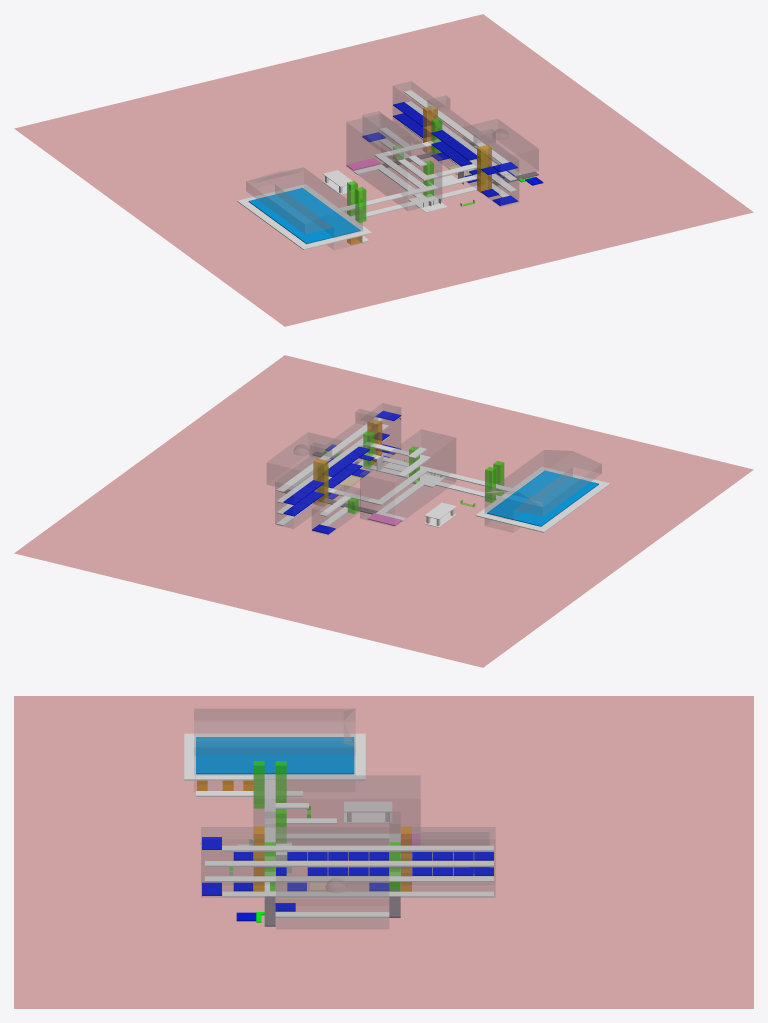
Rendered from schoolmap.glb.
The picture shows the model from 3 angles, top to bottom: view 1: azimuth 30°, elevation 25°; view 2: azimuth 150°, elevation 25°; view 3: azimuth 270°, elevation 25°; orthographic projection. The views are drawn at different scales.
Visible parts, largest first — view 1: 平面, 生徒館, 本館, 体育館, 体育館2Fアリーナ, 文化館, 新館, 生徒館4F廊下, 生徒館ー本館ー体育館2F東側通路, 生徒館東側WL, 生徒館3F廊下; view 2: 平面, 生徒館, 本館, 体育館, 体育館2Fアリーナ, 文化館, 新館, 生徒館4F廊下, 生徒館ー本館ー体育館2F東側通路, 生徒館3F廊下, 生徒館西側WL; view 3: 平面, 生徒館, 体育館, 本館, 体育館2Fアリーナ, 文化館, 生徒館4F廊下, 生徒館1F廊下, 生徒館2F廊下, 生徒館3F廊下, 新館, 本館2F廊下 (+10 smaller).
Part boxes in pixels (<box>): 平面: <box>14,14,753,326</box>; 生徒館: <box>393,81,518,206</box>; 本館: <box>346,114,441,210</box>; 体育館: <box>246,167,362,249</box>; 体育館2Fアリーナ: <box>248,187,360,244</box>; 文化館: <box>463,119,538,174</box>; 新館: <box>362,111,410,160</box>; 生徒館4F廊下: <box>404,90,509,163</box>; 生徒館ー本館ー体育館2F東側通路: <box>339,174,486,211</box>; 生徒館東側WL: <box>477,145,491,193</box>; 生徒館3F廊下: <box>405,101,516,181</box>; 平面: <box>14,355,753,667</box>; 生徒館: <box>275,403,400,528</box>; 本館: <box>360,429,455,526</box>; 体育館: <box>485,450,601,532</box>; 体育館2Fアリーナ: <box>487,470,598,526</box>; 文化館: <box>267,432,342,486</box>; 新館: <box>312,485,360,535</box>; 生徒館4F廊下: <box>276,417,382,492</box>; 生徒館ー本館ー体育館2F東側通路: <box>365,453,511,491</box>; 生徒館3F廊下: <box>276,424,388,503</box>; 生徒館西側WL: <box>313,458,328,506</box>; 平面: <box>14,696,753,1008</box>; 生徒館: <box>201,812,495,897</box>; 体育館: <box>194,709,355,791</box>; 本館: <box>253,775,420,858</box>; 体育館2Fアリーナ: <box>196,737,354,774</box>; 文化館: <box>276,876,388,928</box>; 生徒館4F廊下: <box>222,845,493,851</box>; 生徒館1F廊下: <box>222,891,493,897</box>; 生徒館2F廊下: <box>205,876,493,881</box>; 生徒館3F廊下: <box>205,861,493,866</box>; 新館: <box>412,832,489,868</box>; 本館2F廊下: <box>276,833,400,839</box>.
Bounding box in the file's own units: 21.94 × 2.44 × 21.94.
13 materials, 1 textured.
